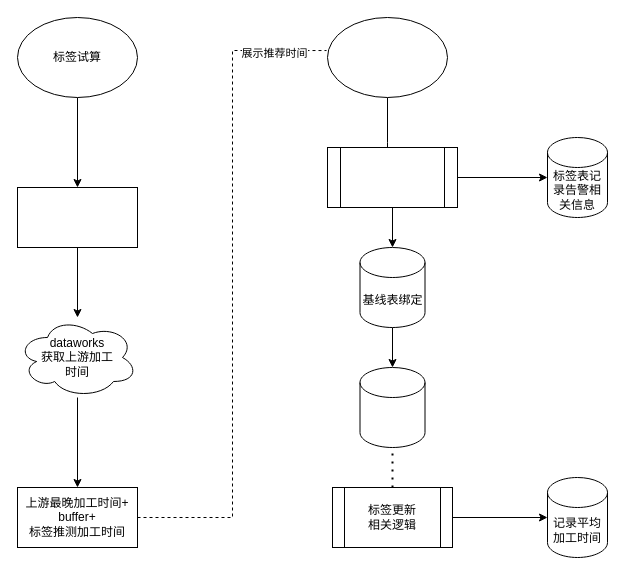
This 625x575 diagram has some shape labels left out. Each missing label, with the centre of its shape:
告警配置表绑定: the point at 392,407
新增标签: the point at 387,57
新增标签相关逻辑: the point at 392,177
获取上游标签与表: the point at 77,217
